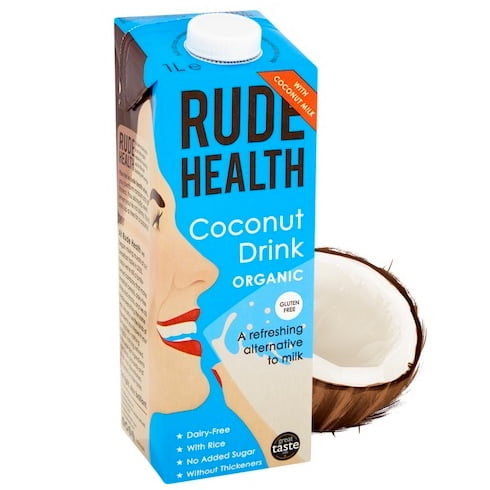carton: (90, 5, 341, 489)
